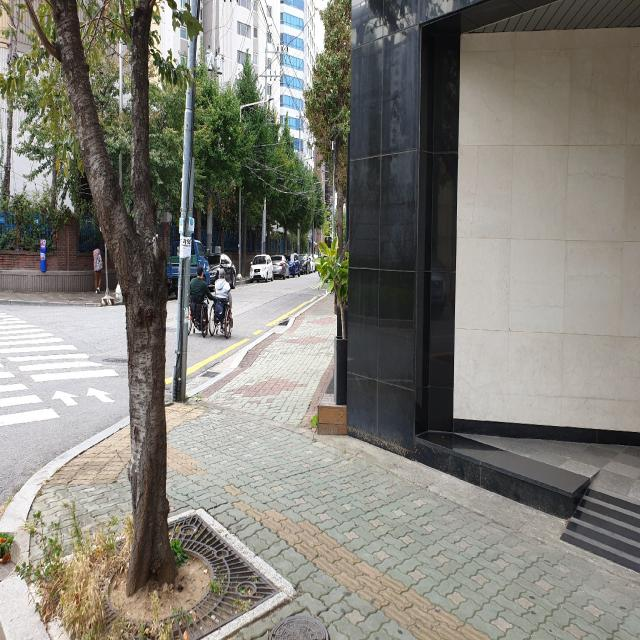횡단보도: (0, 312, 120, 427)
